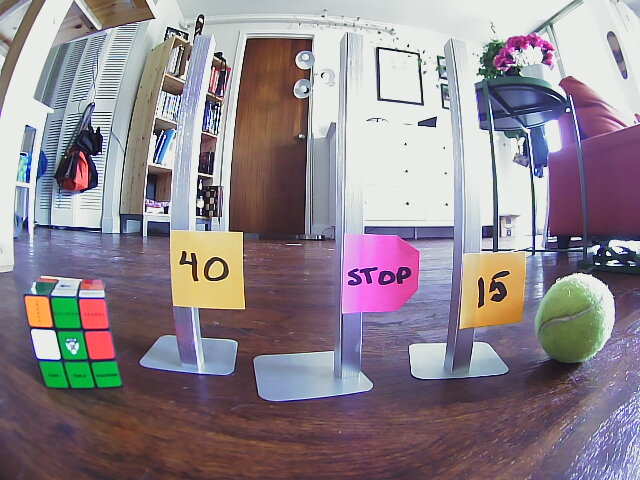15: (464, 256, 524, 325)
40: (170, 230, 244, 309)
ball: (537, 272, 616, 364)
cube: (22, 274, 122, 389)
stop: (342, 237, 416, 315)
